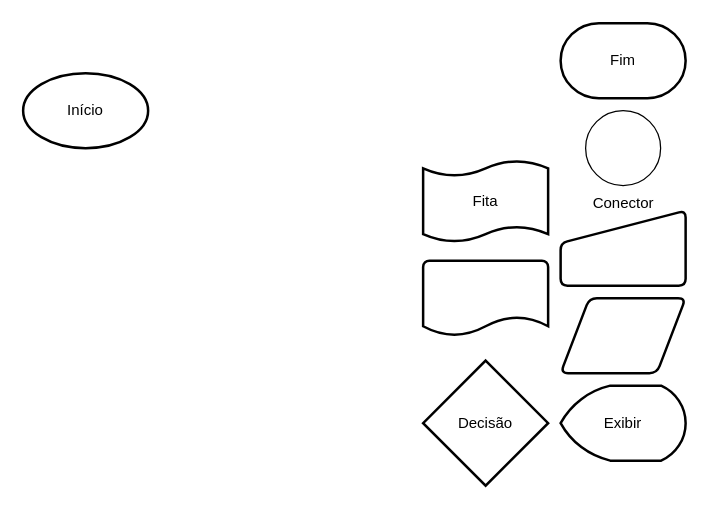
Image size: 708x508. Some labels were removed from this diagram. The centre of each missing label's shape, as x and y in pixels:
"Dados" goes at [622,335].
"Documento" goes at [485,297].
"Entrada manual" goes at [622,247].
